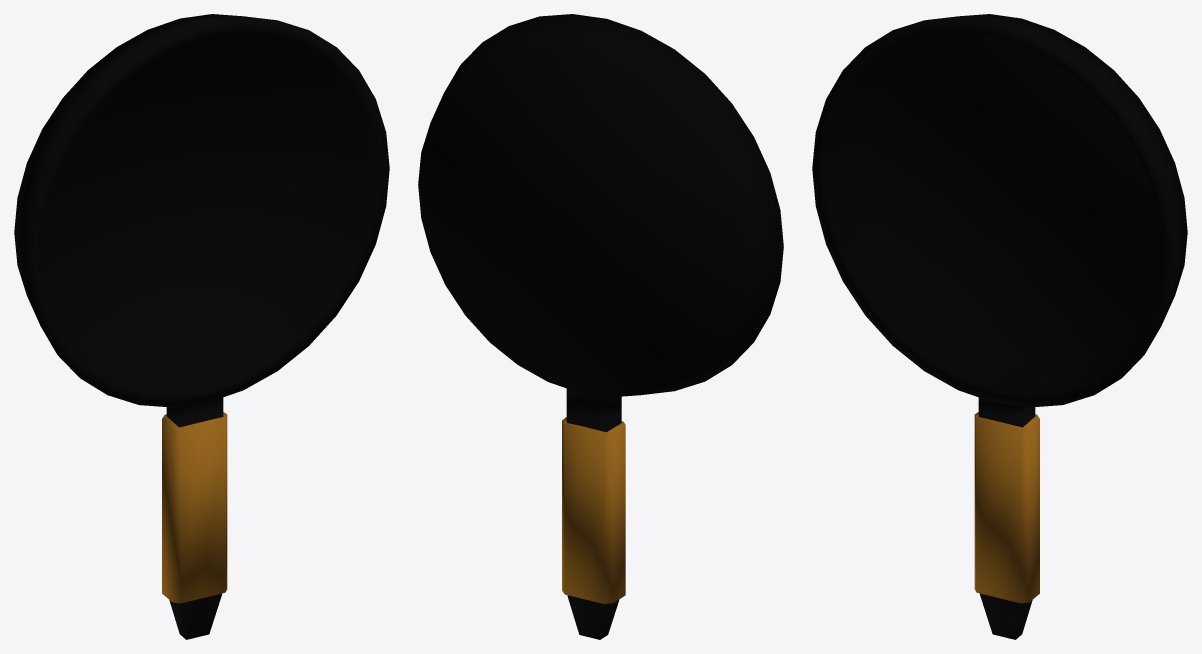
File: Weapon_Frypan.fbx
The picture shows the model from 3 angles, left to right: view 1: azimuth 30°, elevation 25°; view 2: azimuth 150°, elevation 25°; view 3: azimuth 330°, elevation 25°; orthographic projection. The views are drawn at different scales.
Visible parts, largest first — view 1: Cylinder.008; view 2: Cylinder.008; view 3: Cylinder.008.
Part boxes in pixels (box(x1,y1,x2,y2)): Cylinder.008: box(14, 14, 389, 639); Cylinder.008: box(418, 14, 783, 639); Cylinder.008: box(812, 14, 1187, 639).
Size of the model in its own units: 73.01 by 120 by 9.85.
